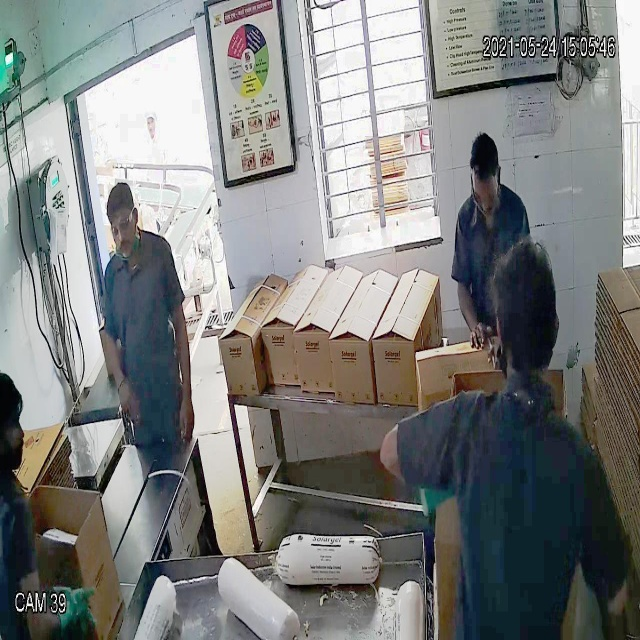Gafas: (107, 210, 136, 239)
